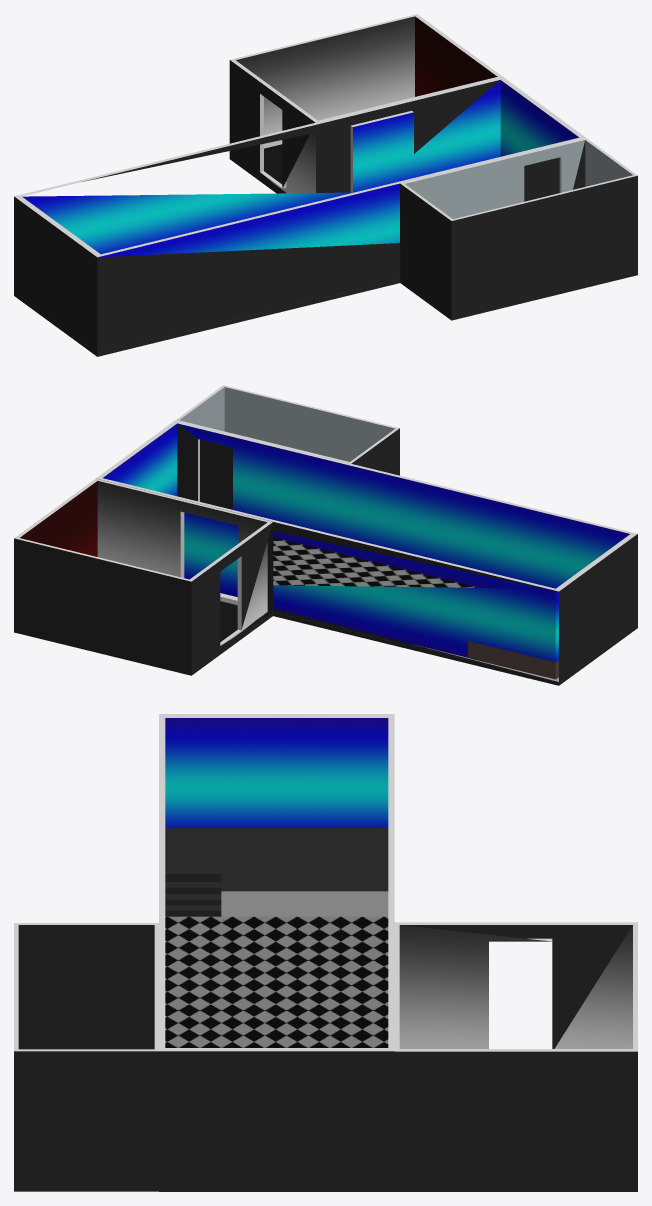
File: rom.fbx
3 views of the same model, one above another, from view 1: azimuth 30°, elevation 25°; view 2: azimuth 150°, elevation 25°; view 3: azimuth 270°, elevation 25° (orthographic). The views are drawn at different scales.
Parts seen in each view (by area): view 1: pCube27, pCube22, pCube29, pCube9, pCube8, pCube10; view 2: pCube27, pCube29, pCube22, pCube9, pCube10; view 3: pCube27, pCube29, pCube9, pCube22, pCube10, pCube8.
Boxes of the visible parts, <box> form: pCube27: <box>14,77,585,352</box>; pCube22: <box>400,138,637,317</box>; pCube29: <box>229,14,502,193</box>; pCube9: <box>14,279,400,356</box>; pCube8: <box>400,272,637,320</box>; pCube10: <box>229,144,286,193</box>; pCube27: <box>96,420,637,681</box>; pCube29: <box>14,478,273,671</box>; pCube22: <box>175,385,399,501</box>; pCube9: <box>273,537,637,685</box>; pCube10: <box>14,601,272,675</box>; pCube27: <box>159,714,394,1186</box>; pCube29: <box>394,922,637,1186</box>; pCube9: <box>159,827,394,1191</box>; pCube22: <box>14,923,158,1186</box>; pCube10: <box>394,1186,637,1191</box>; pCube8: <box>14,1186,158,1191</box>.
Bounding box in the file's own units: 75.4 × 14.66 × 58.96.
